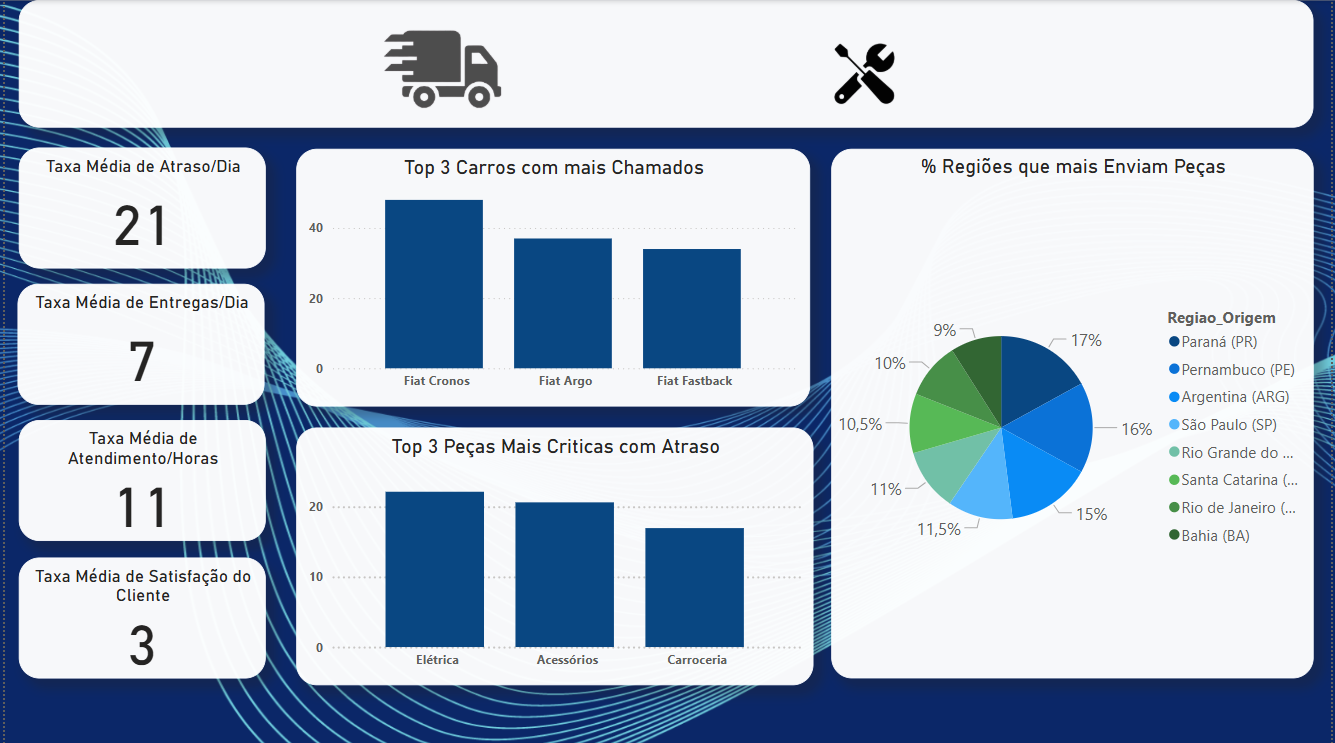

Layout of this report page (visuals, bound fields, positions):
{"tool":"powerbi","page":{"name":"Home","canvas":[1280,720],"ordinal":0},"visuals":[{"type":"card","title":"Taxa Média de Atraso/Dia","fields":{"Values":["Logistica.Taxa Média de Atraso"]},"box":[13.5,141.9,238.7,116.8],"z":0},{"type":"card","title":"Taxa Média de Entregas/Dia","fields":{"Values":["Logistica.Taxa Média de Entrega"]},"box":[11.9,273.6,238.7,116.8],"z":1000},{"type":"card","title":"Taxa Média de Atendimento/Horas","fields":{"Values":["Manutenção e Pós Vendas.Tempo Médio de Atendimento"]},"box":[13.6,405.7,238.7,116.8],"z":2000},{"type":"card","title":"Taxa Média de Satisfação do Cliente","fields":{"Values":["Manutenção e Pós Vendas.Taxa Média de Satisfação do Cliente"]},"box":[13.6,537.7,238.7,116.8],"z":3000},{"type":"actionButton","box":[13.5,0,1249.5,123.6],"z":4000},{"type":"image","box":[584.1,0,491,142.2],"z":6000},{"type":"image","box":[281.1,0,282.8,123.6],"z":7000},{"type":"clusteredColumnChart","title":" Top 3 Peças Mais Criticas com Atraso","fields":{"Category":["Logistica.Peca"],"Y":["Avg(Logistica.Taxa_Atraso)"]},"box":[281.1,412.5,499.5,248.9],"z":8000},{"type":"clusteredColumnChart","title":"Top 3 Carros com mais Chamados","fields":{"Category":["Manutenção e Pós Vendas.Modelo_Carro"],"Y":["CountNonNull(Manutenção e Pós Vendas.Tipo_Servico)"]},"box":[281.1,143.2,496.1,248.9],"z":9000},{"type":"pieChart","title":"% Regiões que mais Enviam Peças","fields":{"Category":["Logistica.Regiao_Origem"],"Y":["CountNonNull(Logistica.Peca)"]},"box":[797.5,143.2,465.6,511.3],"z":10000}]}

Visuals, with their boxes in screenshot pixels (x1, y1, x2, y2), scaled from the page's 1280x720 canvas onto the 1335x743 screenshot:
"Taxa Média de Atraso/Dia" card: (x1=14, y1=146, x2=263, y2=267)
"Taxa Média de Entregas/Dia" card: (x1=12, y1=282, x2=261, y2=403)
"Taxa Média de Atendimento/Horas" card: (x1=14, y1=419, x2=263, y2=539)
"Taxa Média de Satisfação do Cliente" card: (x1=14, y1=555, x2=263, y2=675)
actionButton: (x1=14, y1=0, x2=1317, y2=128)
image: (x1=609, y1=0, x2=1121, y2=147)
image: (x1=293, y1=0, x2=588, y2=128)
" Top 3 Peças Mais Criticas com Atraso" clusteredColumnChart: (x1=293, y1=426, x2=814, y2=683)
"Top 3 Carros com mais Chamados" clusteredColumnChart: (x1=293, y1=148, x2=811, y2=405)
"% Regiões que mais Enviam Peças" pieChart: (x1=832, y1=148, x2=1317, y2=675)
